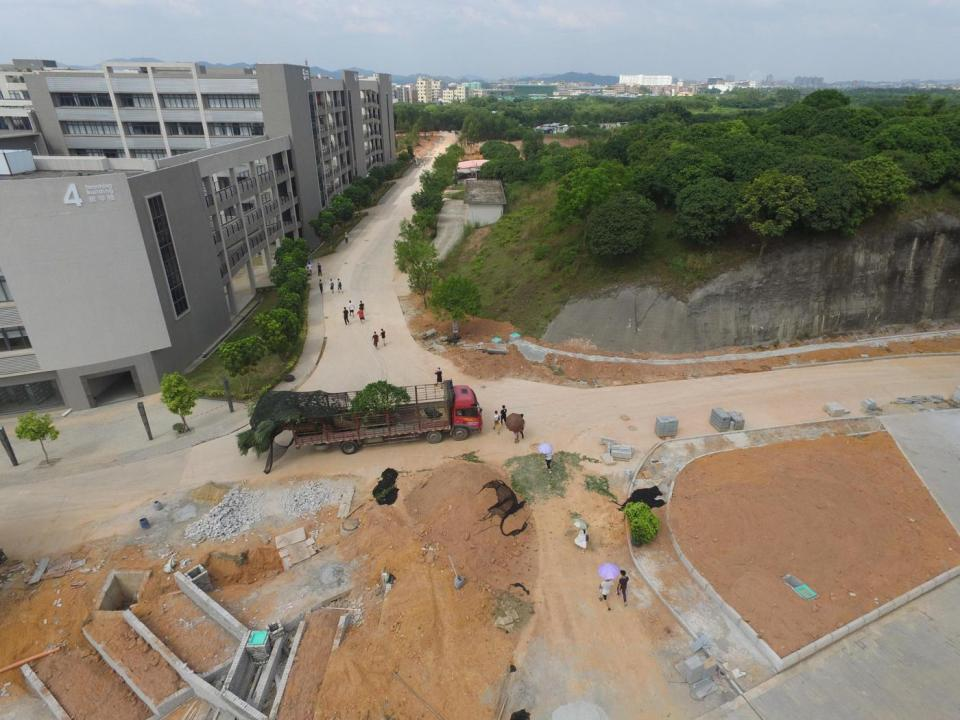car: (289, 380, 484, 454)
